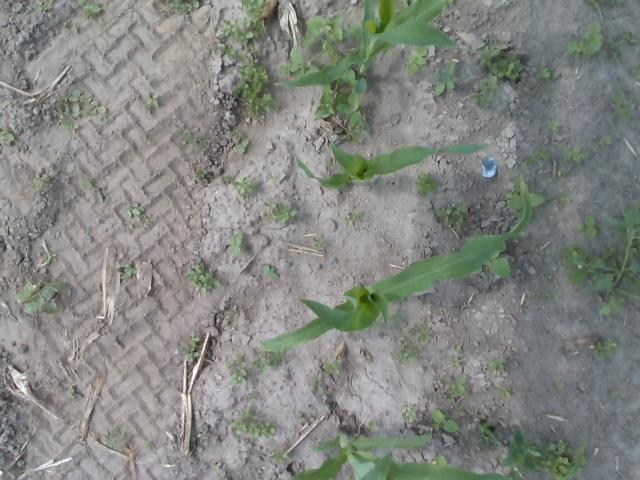Maize: (261, 177, 534, 352), (274, 0, 486, 88), (286, 427, 587, 480), (294, 134, 490, 191)
Weeds: (218, 0, 276, 117), (559, 244, 640, 301), (497, 429, 587, 480), (316, 68, 368, 142), (56, 90, 108, 134), (300, 13, 344, 64), (15, 280, 68, 316), (507, 175, 545, 222), (477, 47, 525, 80), (566, 21, 604, 62), (230, 407, 278, 439), (278, 48, 320, 80), (612, 204, 640, 246), (433, 202, 470, 230), (471, 75, 499, 110), (186, 264, 220, 292), (432, 62, 460, 96), (610, 31, 638, 62), (428, 408, 460, 433), (263, 200, 297, 223), (253, 347, 283, 373), (224, 354, 248, 386), (0, 122, 26, 150), (406, 45, 429, 76), (439, 378, 468, 402), (612, 86, 632, 120), (474, 421, 499, 448), (390, 340, 418, 363), (415, 172, 439, 197), (232, 177, 258, 200), (532, 66, 561, 86), (80, 178, 104, 202), (182, 330, 200, 362), (122, 202, 150, 222), (577, 215, 601, 238), (593, 338, 620, 358), (521, 148, 549, 167), (599, 295, 625, 315), (102, 429, 128, 449), (561, 145, 589, 163), (407, 323, 431, 342), (168, 0, 200, 14), (76, 0, 102, 17), (230, 231, 246, 256), (308, 372, 326, 394), (116, 261, 137, 279), (261, 262, 280, 280), (181, 136, 206, 149), (270, 447, 290, 463), (400, 403, 418, 420), (323, 359, 342, 375), (32, 174, 49, 190), (144, 94, 160, 110), (65, 386, 83, 400), (488, 358, 506, 370), (508, 224, 524, 237), (35, 0, 52, 12), (498, 386, 512, 400), (346, 210, 358, 225), (238, 138, 249, 154), (596, 135, 612, 146), (434, 455, 448, 467), (312, 236, 326, 248), (546, 120, 560, 131), (196, 168, 210, 179), (556, 168, 568, 180), (629, 62, 640, 75), (44, 252, 58, 262), (294, 412, 305, 424), (448, 355, 460, 366), (586, 0, 599, 10), (536, 290, 550, 299), (390, 314, 404, 323), (246, 392, 256, 404), (559, 193, 572, 202), (230, 128, 242, 137), (368, 420, 378, 430), (554, 380, 564, 389), (220, 173, 230, 182), (610, 0, 624, 6), (610, 389, 619, 398), (326, 161, 336, 169), (453, 346, 463, 354), (145, 440, 153, 449), (164, 241, 171, 247)
